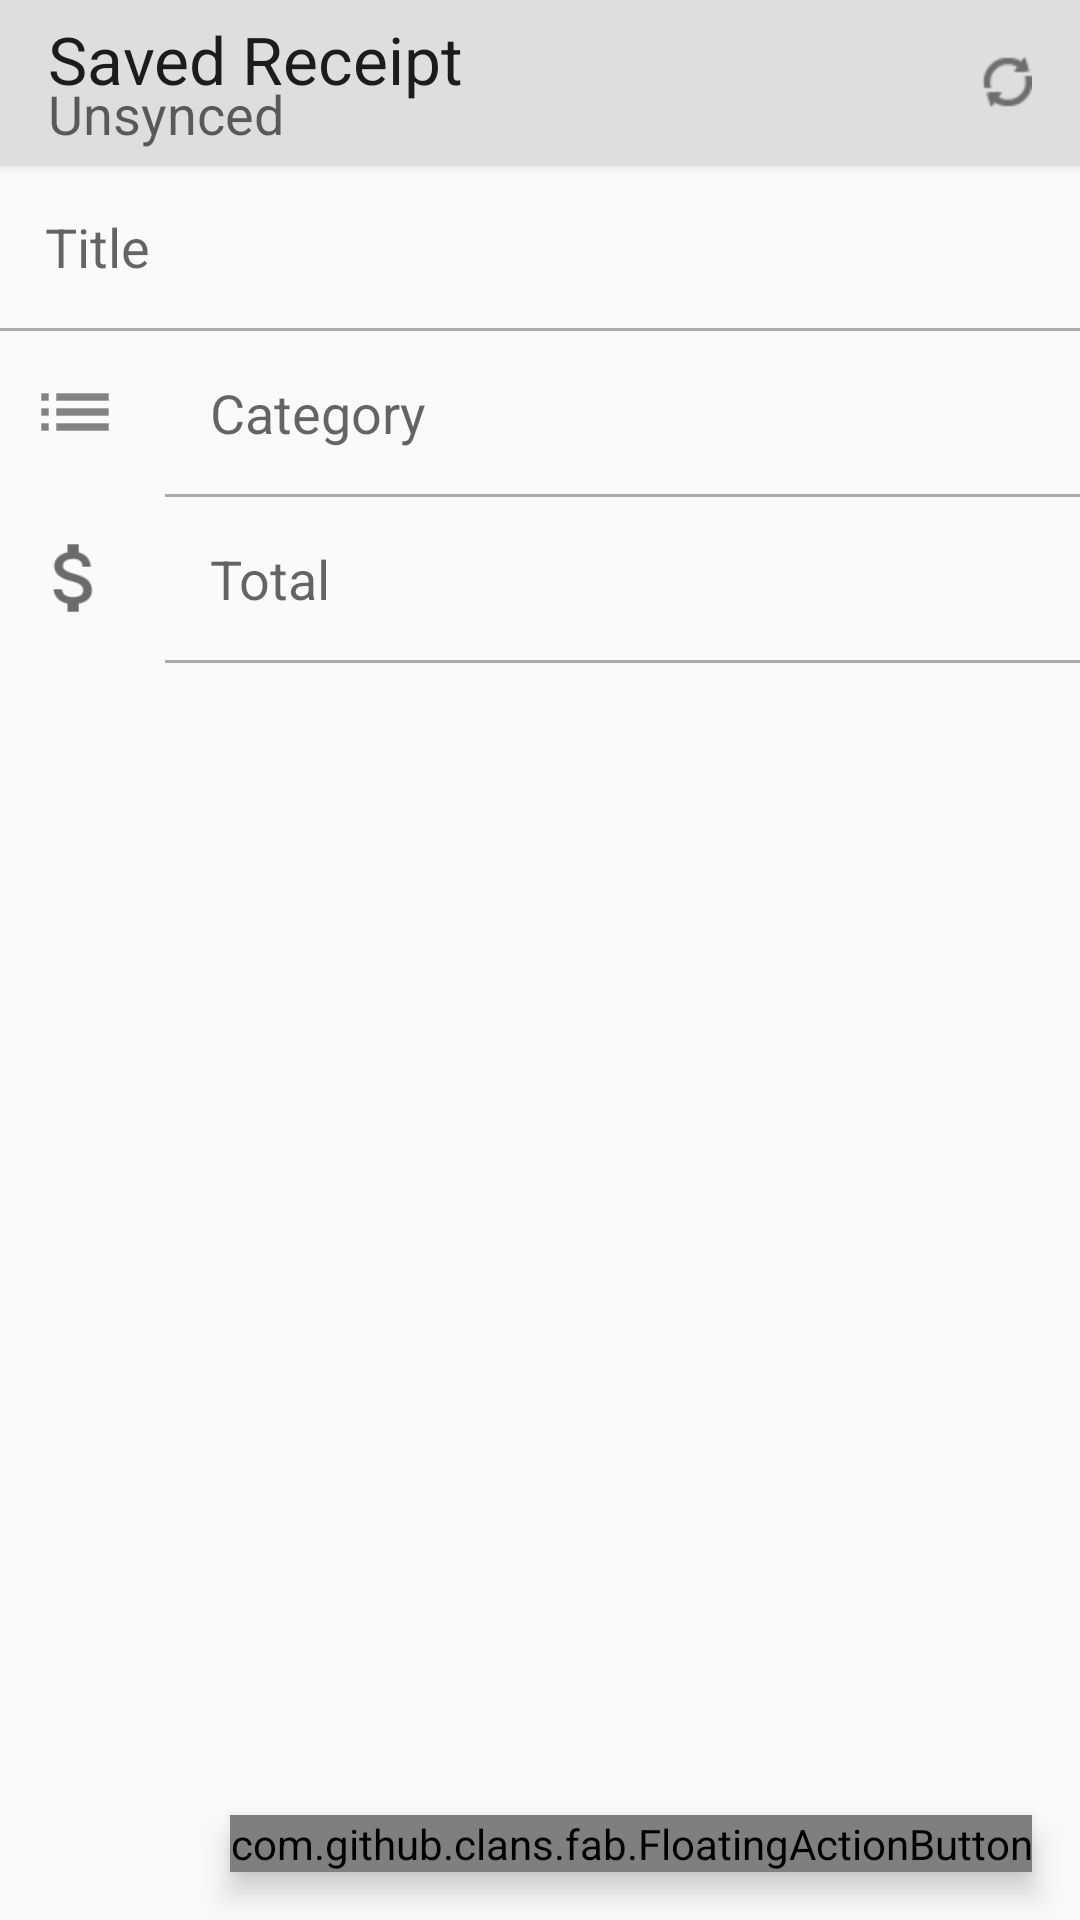

Locate icon controls on the screen. Image size 1080*1920, boxes as bbox=(x1, y1, x2, y2).
money: bbox=(53, 544, 93, 612)
sync: bbox=(983, 57, 1032, 107)
